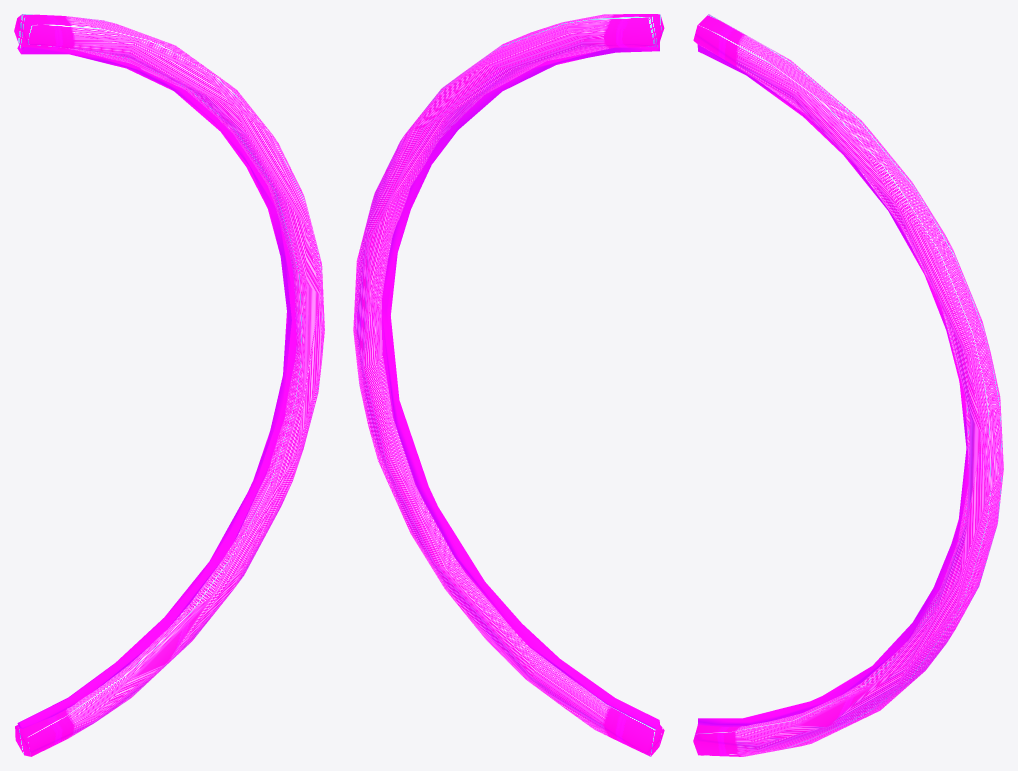
Rendered from WING_R.glb.
3 renders of one model, left to right at view 1: azimuth 30°, elevation 25°; view 2: azimuth 150°, elevation 25°; view 3: azimuth 330°, elevation 25°, orthographic.
Visible parts, largest first — view 1: WING_R_02_LITE; view 2: WING_R_02_LITE; view 3: WING_R_02_LITE.
Part boxes in pixels (x1,y1,x2,y2): WING_R_02_LITE: (14,14,324,756); WING_R_02_LITE: (353,14,664,756); WING_R_02_LITE: (693,14,1003,756).
Bounding box in the file's own units: 2.02 × 4.72 × 0.2013.
Materials: 2 (1 with a texture image).
